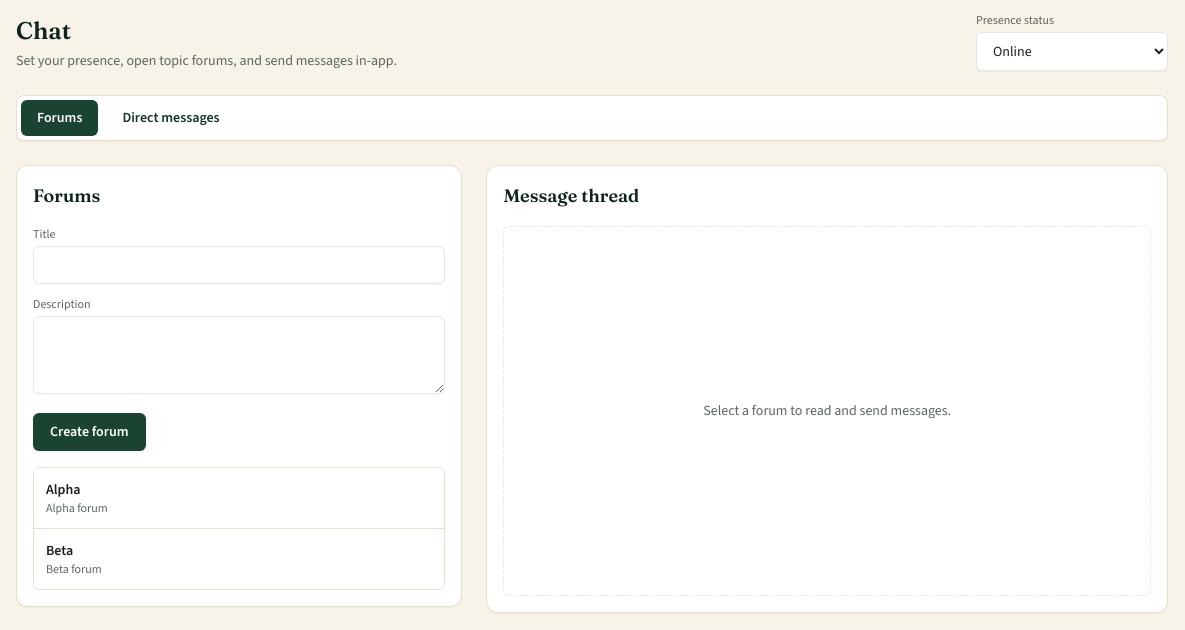
Test: public forum › keeps reactions working after a typing failure
Click the button "Alpha Alpha forum".
click(63, 490)  # box [34,468,444,528]
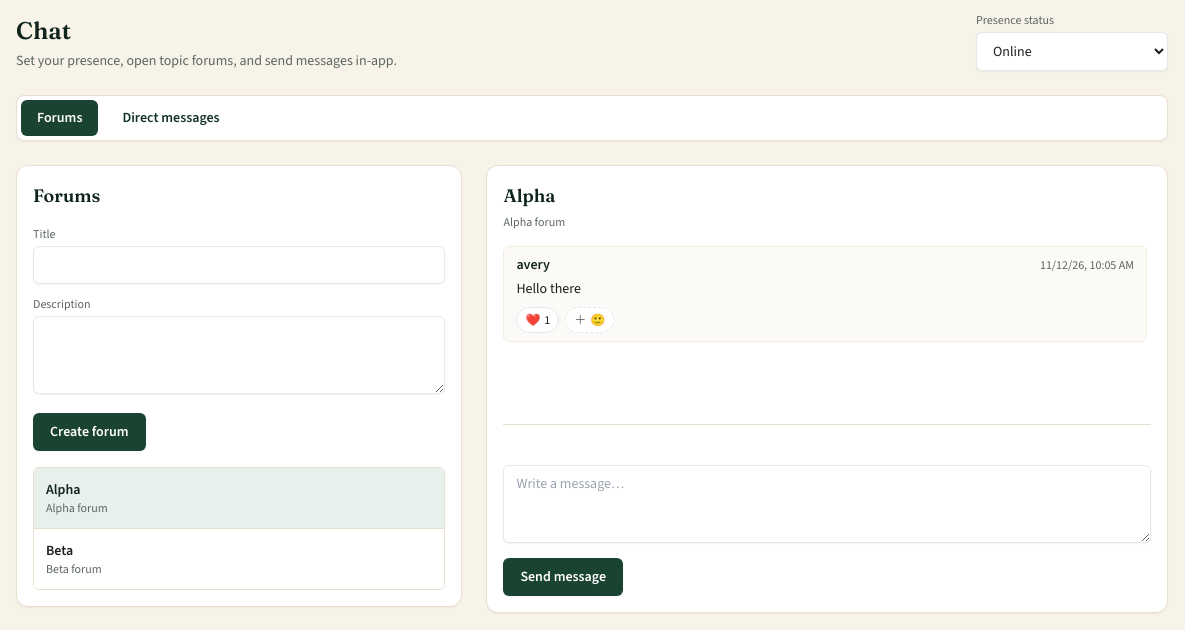
Expected: the form with test id "send-message-form" is shown, [503,424,1151,596]
Type "typing" into the text box labelled "message".
click(827, 504); type("typing")  # box [503,465,1151,543]
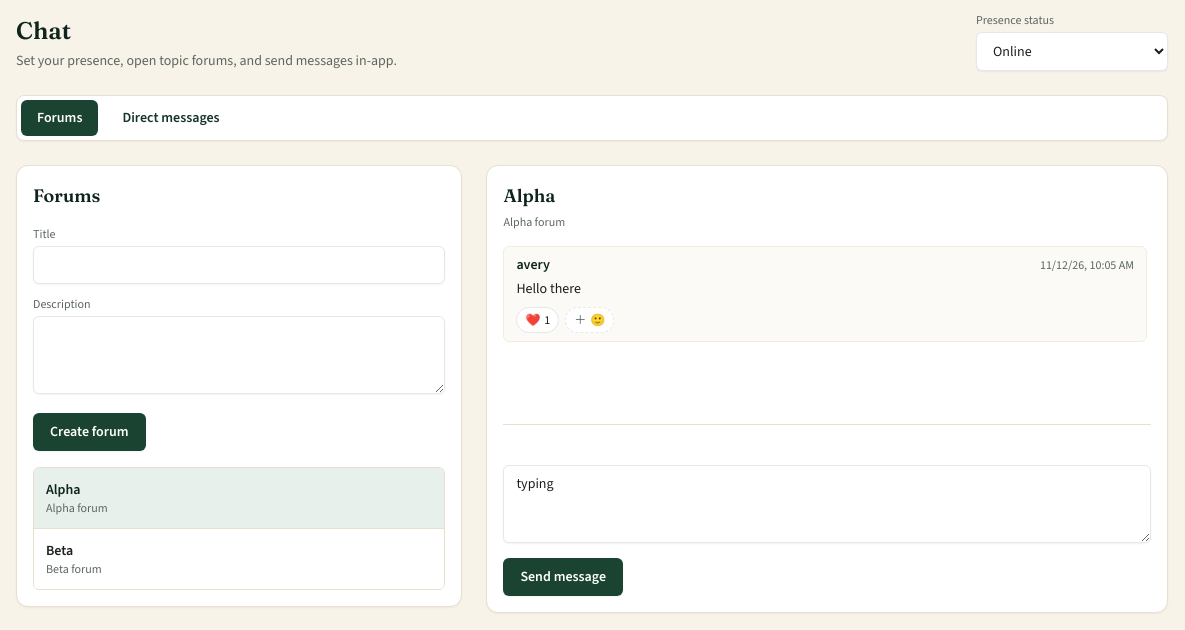
Click the button named "Heart, 1 reaction".
click(538, 320)  # box [516,307,559,333]
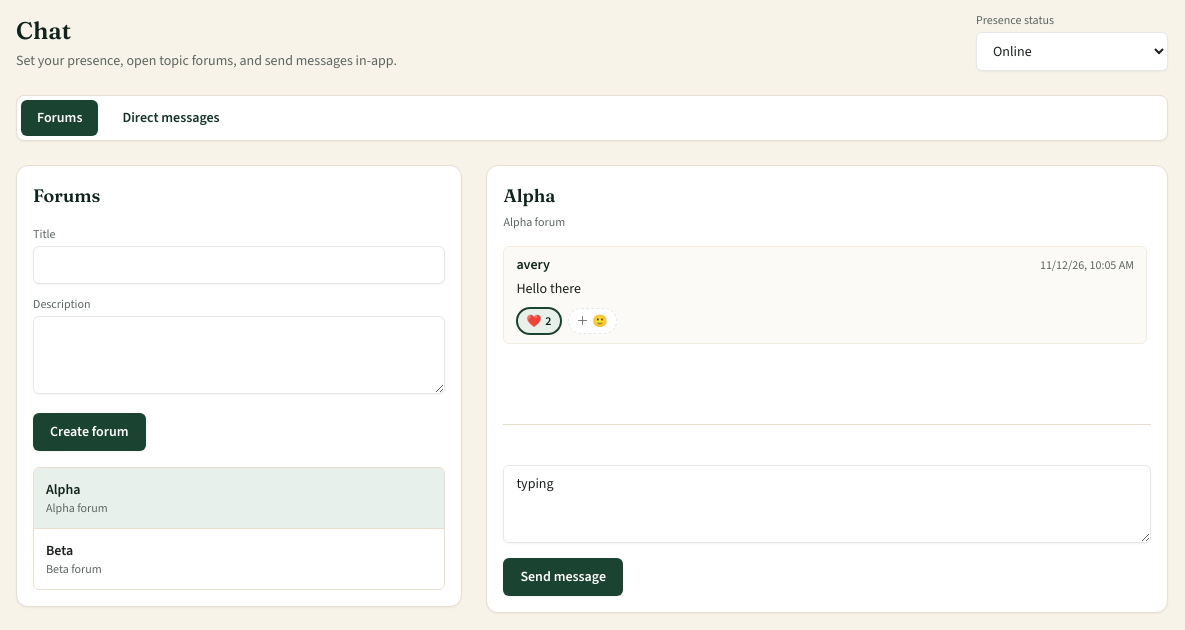
Result: the button named "Heart, 2 reactions, you reacted" is shown at [516,307,562,335]
